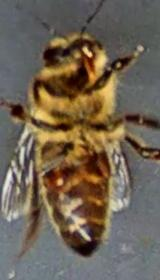varroa_mite: (43, 162, 72, 198)
